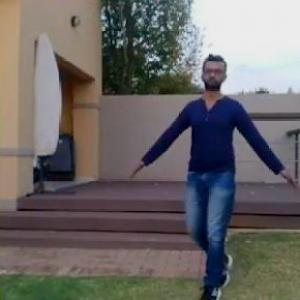land: (146, 70, 285, 282)
